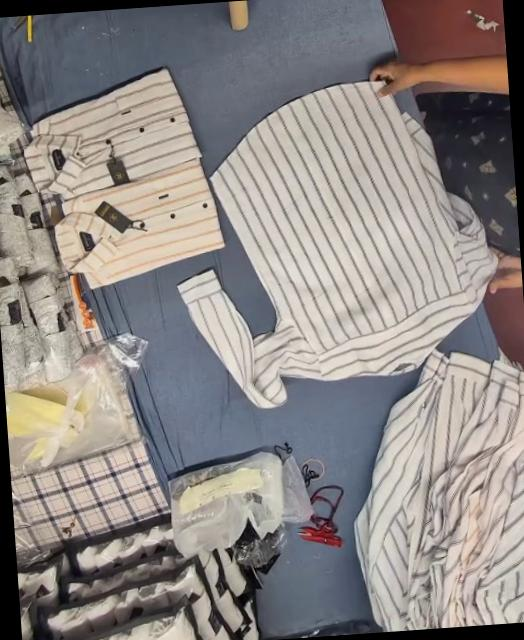new-garment: (179, 82, 494, 408)
